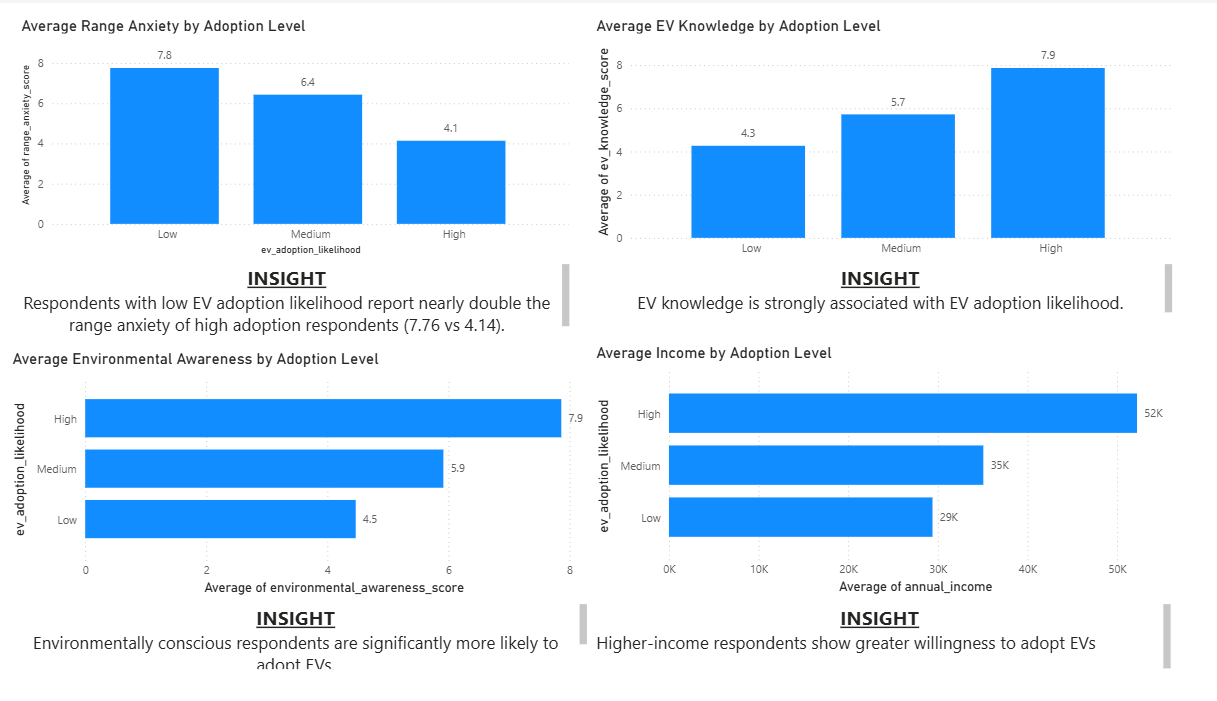

What the dashboard file says about the page in this screenshot:
{"tool":"powerbi","page":{"name":"Key Drivers of Adoption","canvas":[1280,720],"ordinal":1},"visuals":[{"type":"clusteredColumnChart","title":"Average Range Anxiety by Adoption Level","fields":{"Category":["ev_adoption.ev_adoption_likelihood"],"Y":["Avg(ev_adoption.range_anxiety_score)"]},"box":[9.8,0,610.2,267.8],"z":0},{"type":"textbox","box":[0,267.8,620,97.8],"z":1},{"type":"clusteredColumnChart","title":"Average EV Knowledge by Adoption Level","fields":{"Category":["ev_adoption.ev_adoption_likelihood"],"Y":["Avg(ev_adoption.ev_knowledge_score)"]},"box":[640,0,640,287.1],"z":2},{"type":"textbox","box":[639.5,267.8,640.8,78.3],"z":3},{"type":"clusteredBarChart","title":"Average Environmental Awareness by Adoption Level","fields":{"Y":["Avg(ev_adoption.environmental_awareness_score)"],"Category":["ev_adoption.ev_adoption_likelihood"]},"box":[0,365.6,639.5,273.9],"z":4},{"type":"textbox","box":[0,639.5,639.5,80.7],"z":5},{"type":"clusteredBarChart","title":"Average Income by Adoption Level","fields":{"Category":["ev_adoption.ev_adoption_likelihood"],"Y":["Avg(ev_adoption.annual_income)"]},"box":[639.5,359.5,640.8,280],"z":6},{"type":"textbox","box":[639.5,639.5,639.5,80.7],"z":7}]}

Visuals, with their boxes in screenshot pixels (x1, y1, x2, y2), scaled from the page's 1280x720 canvas onto the 1217x701 screenshot:
"Average Range Anxiety by Adoption Level" clusteredColumnChart: (9, 0, 589, 261)
textbox: (0, 261, 589, 356)
"Average EV Knowledge by Adoption Level" clusteredColumnChart: (608, 0, 1216, 280)
textbox: (608, 261, 1216, 337)
"Average Environmental Awareness by Adoption Level" clusteredBarChart: (0, 356, 608, 623)
textbox: (0, 623, 608, 700)
"Average Income by Adoption Level" clusteredBarChart: (608, 350, 1216, 623)
textbox: (608, 623, 1216, 700)
